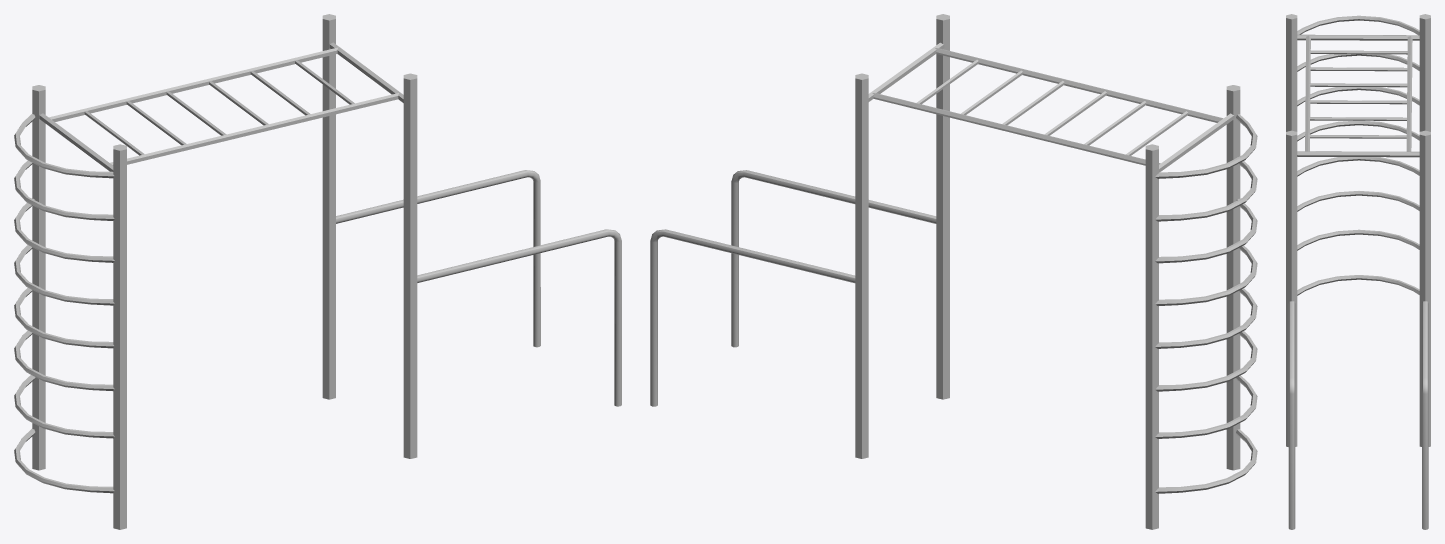
File: SM_Playground_03.fbx
The picture shows the model from 3 angles, left to right: view 1: azimuth 30°, elevation 25°; view 2: azimuth 150°, elevation 25°; view 3: azimuth 270°, elevation 25°; orthographic projection. The views are drawn at different scales.
Parts seen in each view (by area): view 1: SM_Playground_03; view 2: SM_Playground_03; view 3: SM_Playground_03.
Boxes of the visible parts, x1=… form: SM_Playground_03: x1=14, y1=14, x2=621, y2=529; SM_Playground_03: x1=650, y1=14, x2=1257, y2=529; SM_Playground_03: x1=1286, y1=14, x2=1430, y2=529.
Bounding box in the file's own units: 393 × 256 × 108.
